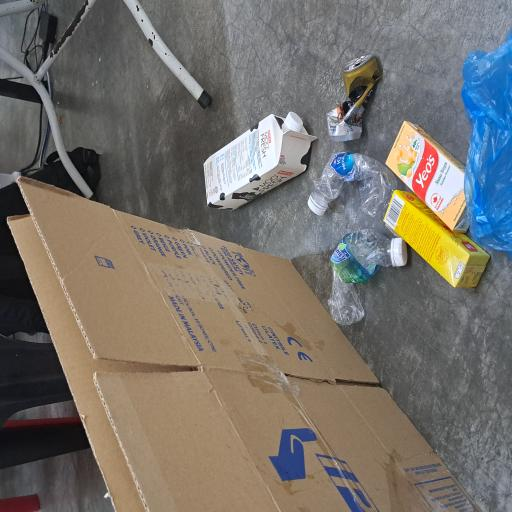can: (278, 436, 344, 509)
cardboard: (0, 9, 254, 512)
drink carton: (226, 270, 298, 423)
plastic bottle: (140, 436, 213, 512), (220, 415, 270, 512)
plastic bottle cap: (284, 380, 300, 404), (222, 410, 238, 434)
pop tab: (335, 470, 343, 488)
